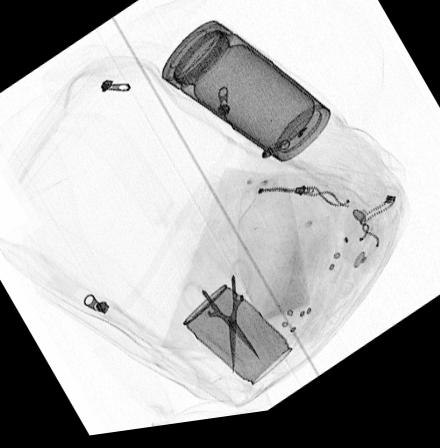Scissors: (179, 264, 261, 383)
